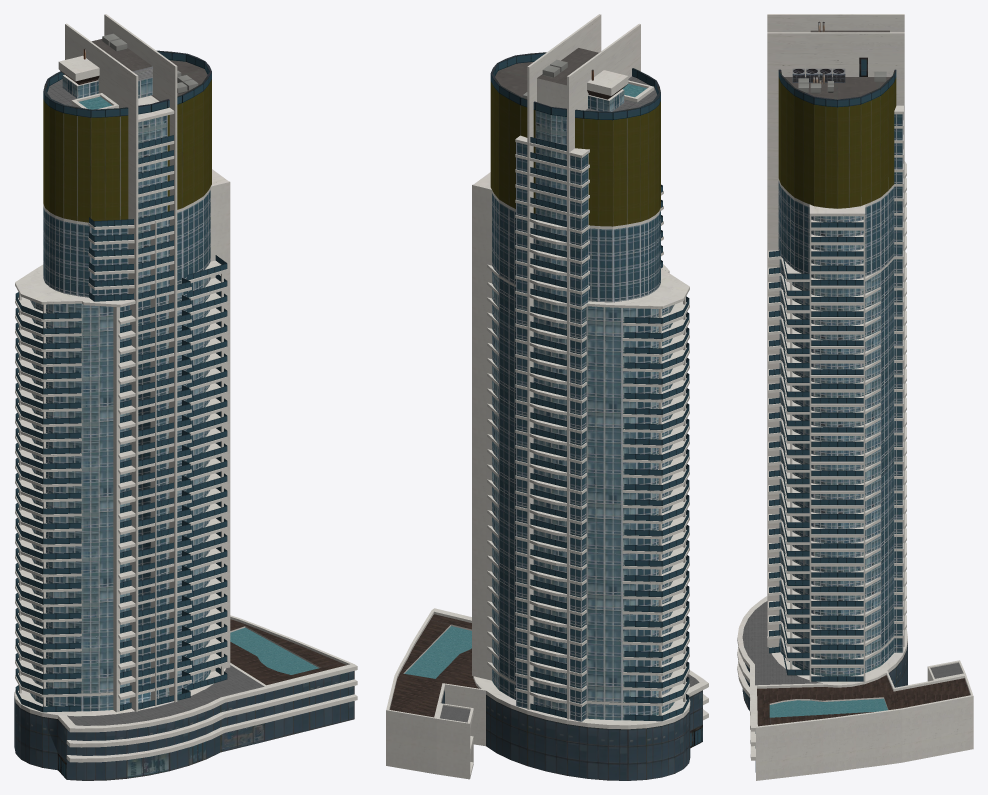
The model's file is gold_crown_tower.glb.
3 renders of one model, left to right at view 1: azimuth 30°, elevation 25°; view 2: azimuth 150°, elevation 25°; view 3: azimuth 270°, elevation 25°, orthographic. The views are drawn at different scales.
Parts seen in each view (by area): view 1: gold_crown_tower; view 2: gold_crown_tower; view 3: gold_crown_tower.
Part boxes in pixels (x1,y1,x2,y2): gold_crown_tower: (14, 14, 357, 780); gold_crown_tower: (386, 14, 708, 780); gold_crown_tower: (737, 14, 973, 780).
Bounding box in the file's own units: 61 × 138 × 44.28.
1 material, 1 textured.
